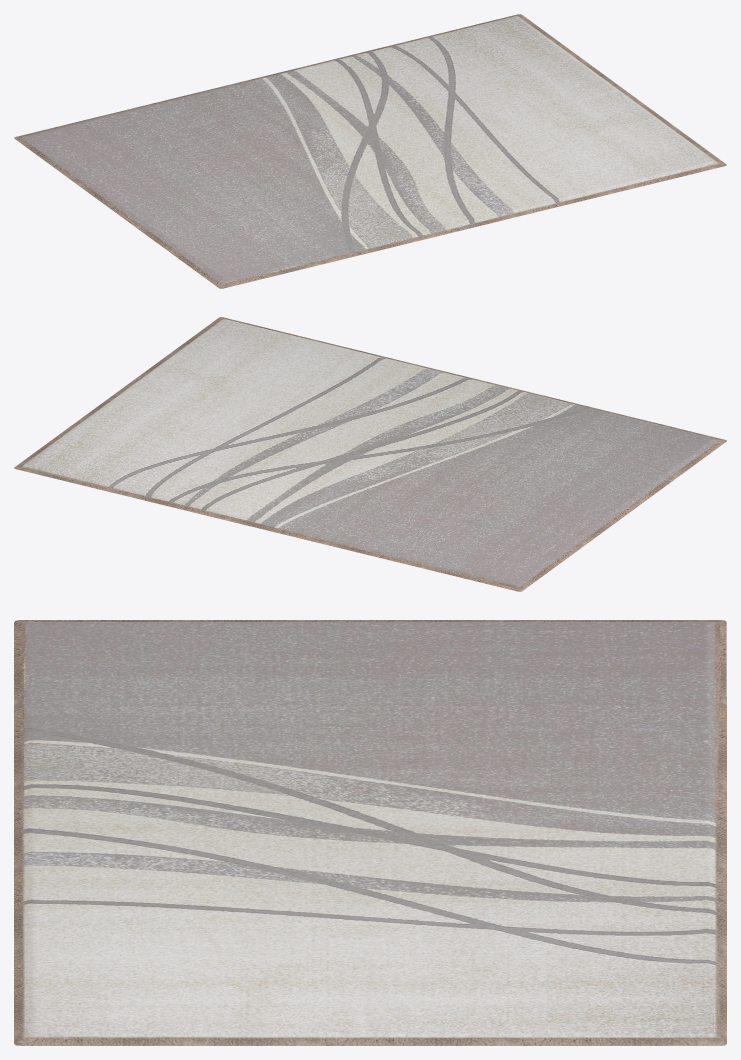
File: SM_Rug_B1.fbx
3 renders of one model, top to bottom at view 1: azimuth 30°, elevation 25°; view 2: azimuth 150°, elevation 25°; view 3: azimuth 270°, elevation 25°, orthographic. The views are drawn at different scales.
Parts seen in each view (by area): view 1: SM_Rug_B1; view 2: SM_Rug_B1; view 3: SM_Rug_B1.
Boxes of the visible parts, bbox=[...] form: SM_Rug_B1: bbox=[14, 14, 726, 288]; SM_Rug_B1: bbox=[14, 317, 726, 591]; SM_Rug_B1: bbox=[14, 620, 726, 1045].
Size of the model in its own units: 136 by 96.23 by 0.7028.
Materials: 1 (1 with a texture image).
